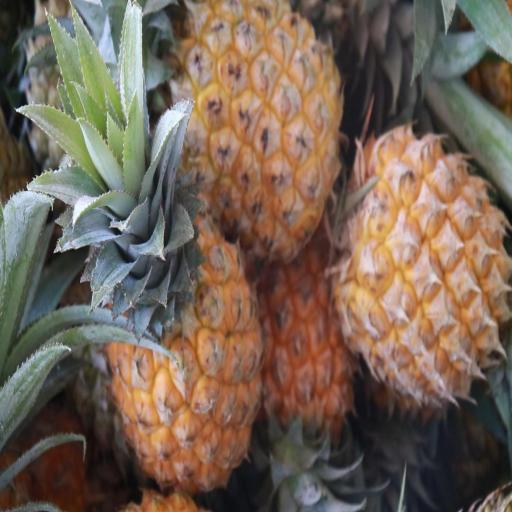Pineapple - v8 v1: (106, 136, 264, 498), (338, 120, 512, 412), (175, 0, 344, 259), (256, 257, 362, 489)
